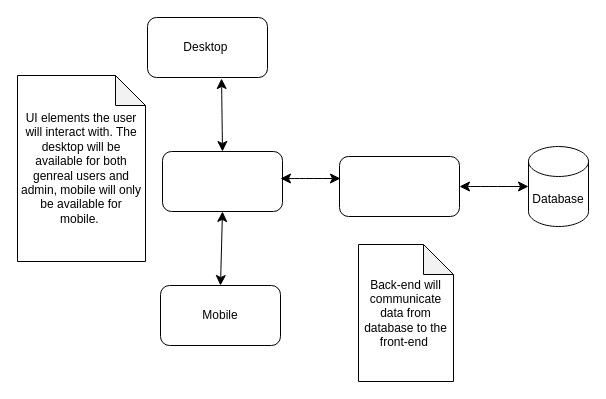
The diagram is 606 pixels wide and 399 high, and some of its shapes have lost their labels. Each missing label, with the centre of its shape:
Back-End: (x=399, y=186)
Front-End: (x=222, y=181)
